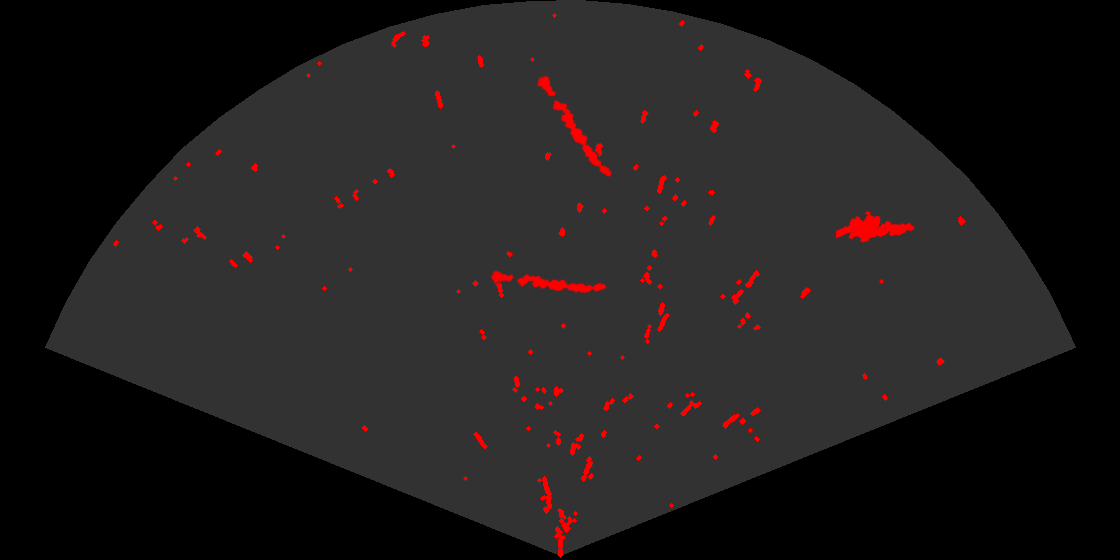chain: (535, 74, 614, 178), (488, 269, 608, 295)
frogman: (836, 210, 916, 244)
